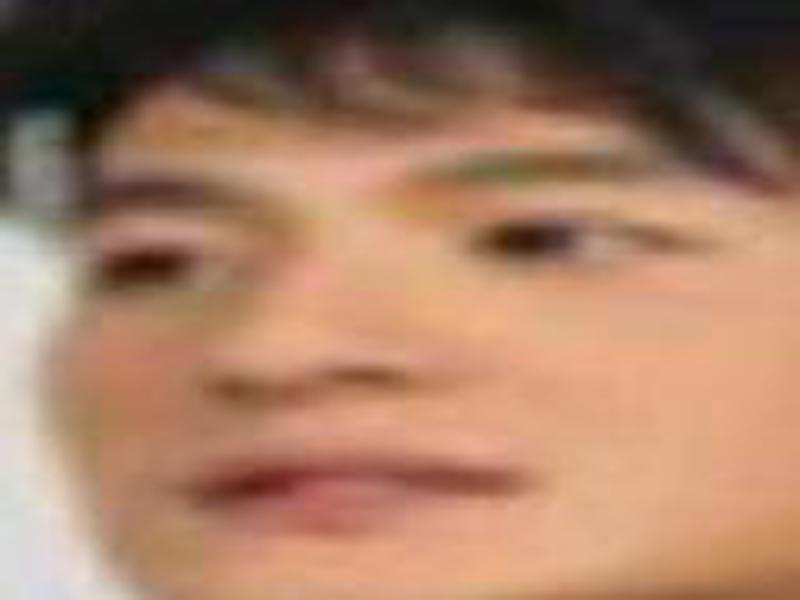without_mask: (45, 102, 800, 600)
